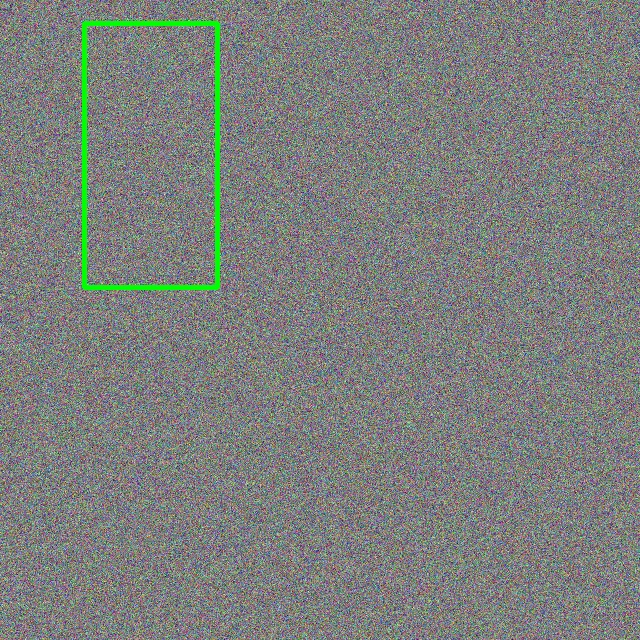base: (84, 23, 217, 287)
